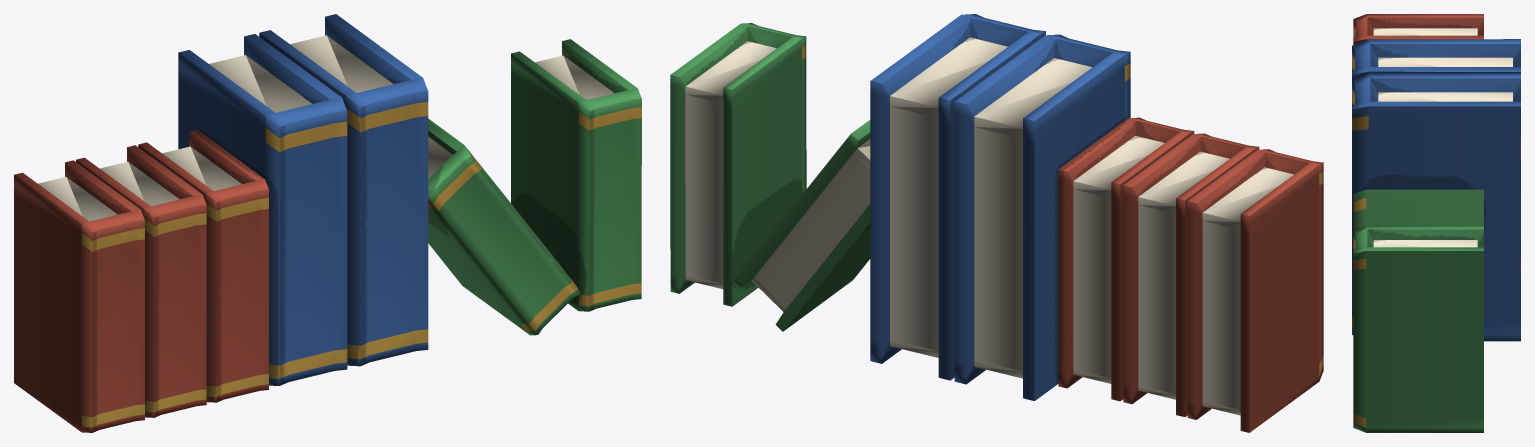
The model's file is books1_model.glb.
3 renders of one model, left to right at view 1: azimuth 30°, elevation 25°; view 2: azimuth 150°, elevation 25°; view 3: azimuth 270°, elevation 25°, orthographic. The views are drawn at different scales.
Parts seen in each view (by area): view 1: books; view 2: books; view 3: books.
Boxes of the visible parts, box(x1,y1,x2,y2) form: books: box(14, 14, 641, 432); books: box(670, 14, 1323, 432); books: box(1352, 14, 1520, 432).
Bounding box in the file's own units: 0.5164 × 0.2503 × 0.1554.
1 material, 1 textured.
